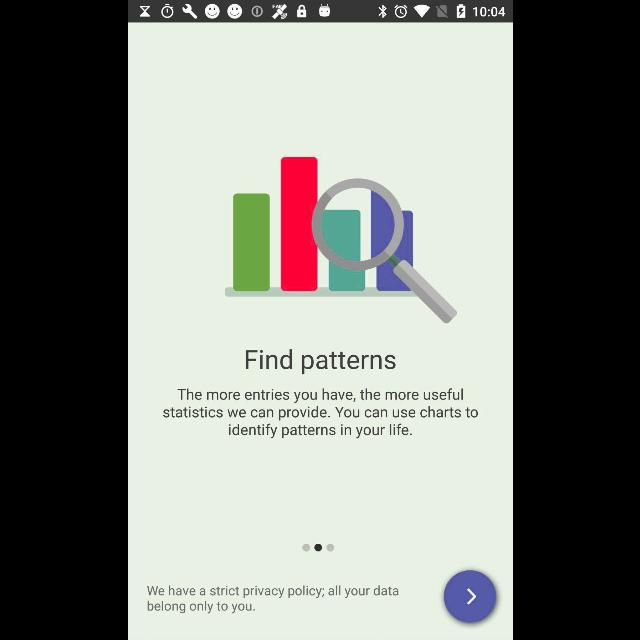button: (442, 570, 496, 624)
image: (223, 156, 457, 324)
pageindicator: (302, 544, 334, 552)
text: (162, 388, 478, 438), (146, 584, 398, 614), (245, 349, 395, 375)
uppertaskbar: (128, 1, 512, 23)
